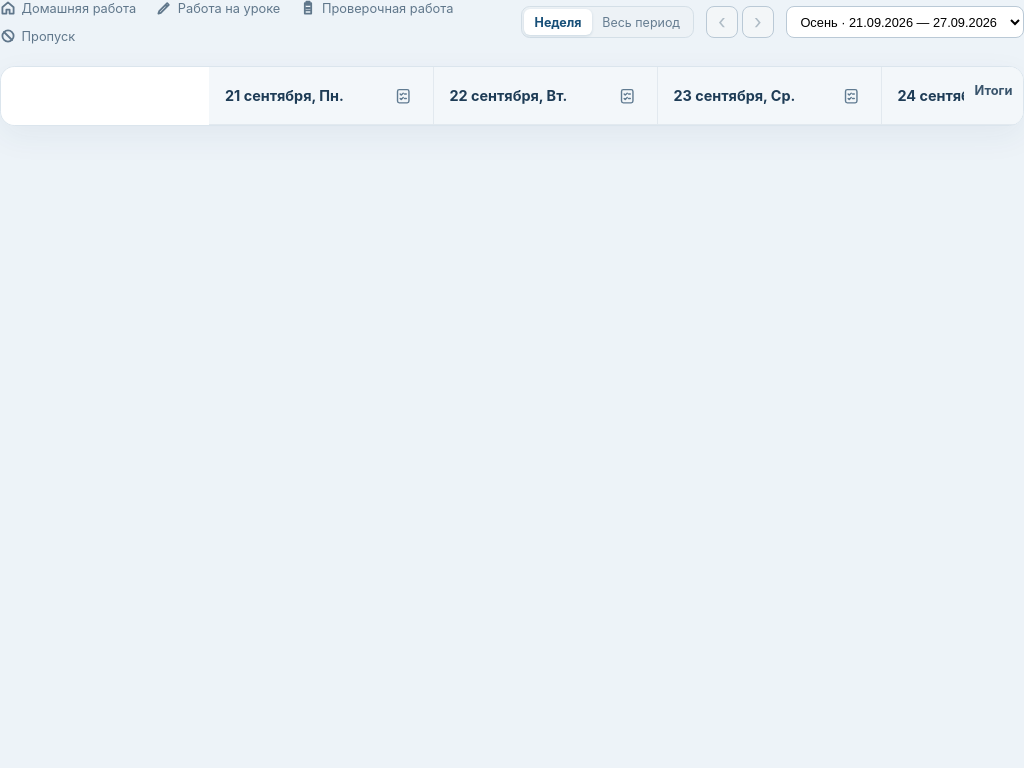
Test: shows the date with a tasks button and hides empty homework
Expected: the icon next to "Пн." is shown, [394,87,411,105]
Expected: the text "Домашнее задание" is not shown
Click the button named "Домашнее задание 2026-09-21".
click(402, 96)  # box [388,82,416,110]
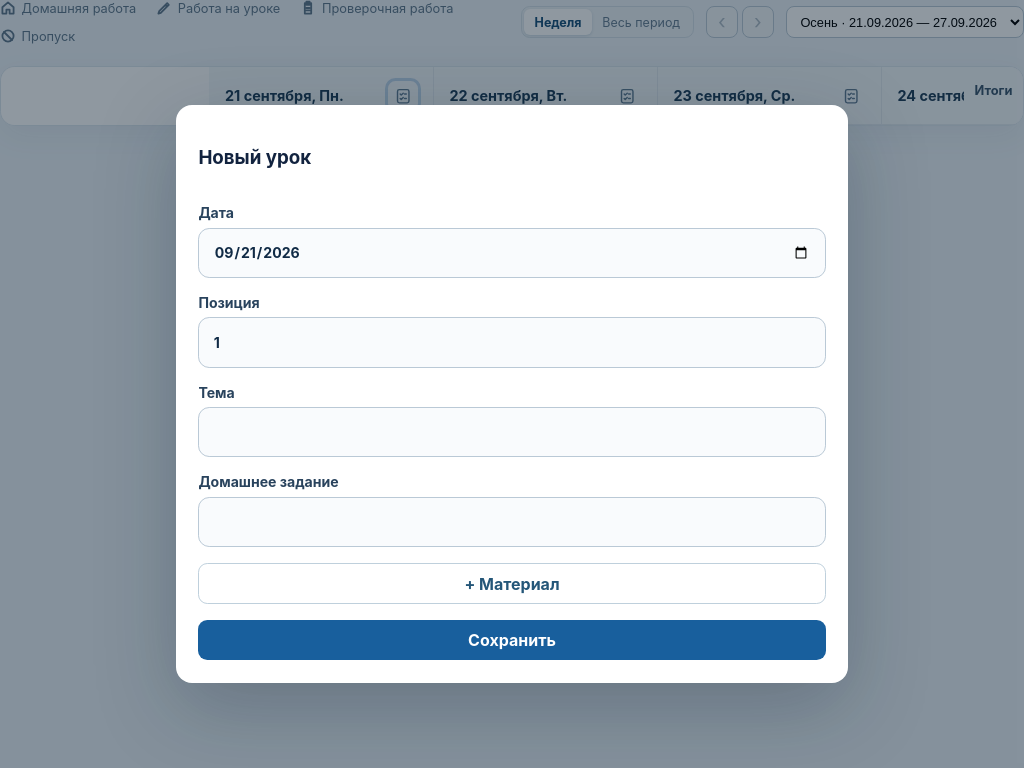
Expected: the field labelled "Тема" is shown, [198,407,826,458]
Expected: the field labelled "Домашнее задание" is shown, [198,497,826,547]
